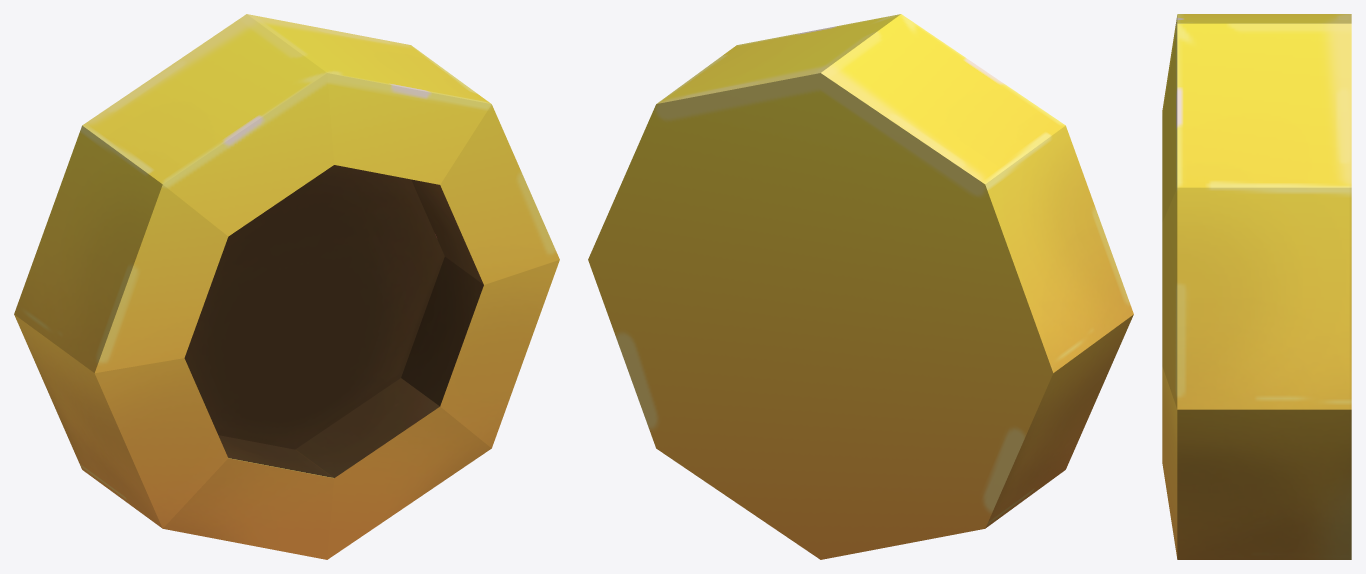
File: Moeda.fbx
3 views of the same model, side by side, from view 1: azimuth 30°, elevation 25°; view 2: azimuth 150°, elevation 25°; view 3: azimuth 270°, elevation 25° (orthographic). The views are drawn at different scales.
Parts seen in each view (by area): view 1: Moeda; view 2: Moeda; view 3: Moeda.
Boxes of the visible parts, bbox=[...] form: Moeda: bbox=[14, 14, 559, 559]; Moeda: bbox=[588, 14, 1133, 559]; Moeda: bbox=[1162, 14, 1351, 559].
Size of the model in its own units: 60 by 60 by 19.56.
1 material, 1 textured.
